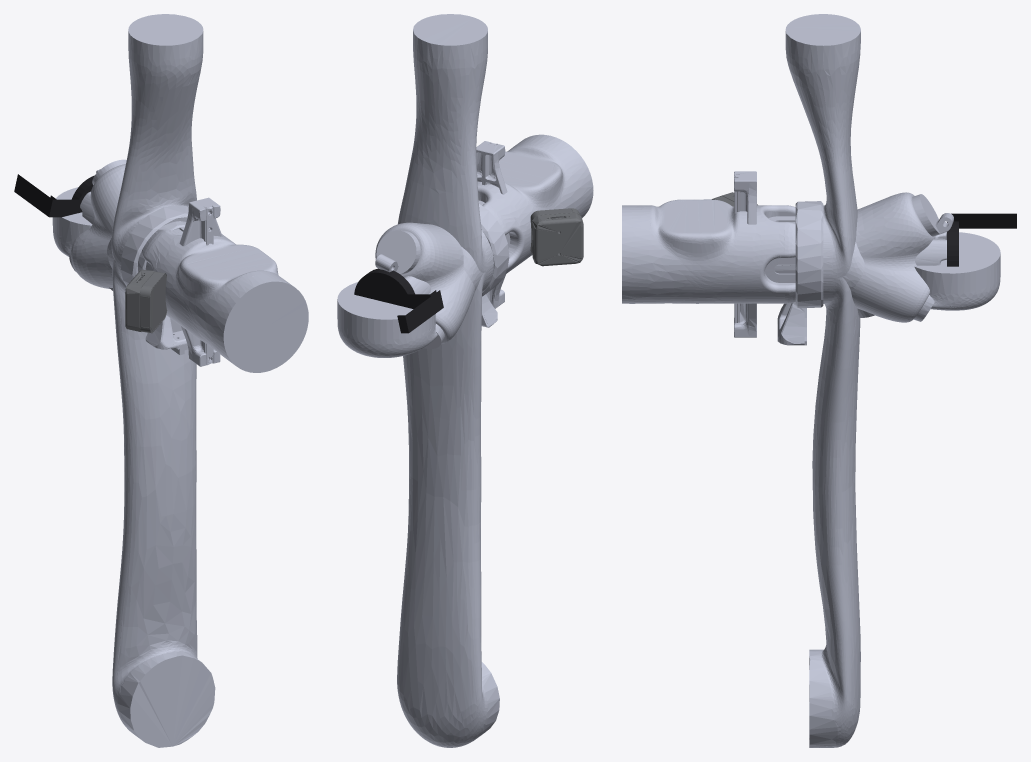
The model's file is arm.glb.
3 views of the same model, side by side, from view 1: azimuth 30°, elevation 25°; view 2: azimuth 150°, elevation 25°; view 3: azimuth 270°, elevation 25° (orthographic).
Visible parts, largest first — view 1: b4, b2, b5, b8, b10, b3, b11; view 2: b4, b5, b8, b2, b3, b10; view 3: b4, b2, b5, b8, b3, b10, b11.
Part boxes in pixels (x1,y1,x2,y2): b4: [112, 218, 215, 747]; b2: [141, 228, 308, 372]; b5: [111, 14, 203, 279]; b8: [14, 159, 126, 288]; b10: [125, 197, 222, 366]; b3: [52, 187, 188, 286]; b11: [145, 315, 188, 354]; b4: [397, 232, 499, 747]; b5: [398, 14, 493, 287]; b8: [354, 222, 474, 348]; b2: [477, 134, 593, 274]; b3: [337, 204, 509, 357]; b10: [476, 141, 583, 308]; b4: [809, 220, 860, 747]; b2: [622, 199, 795, 303]; b5: [785, 14, 860, 303]; b8: [851, 192, 1016, 322]; b3: [795, 201, 1000, 310]; b10: [712, 171, 795, 337]; b11: [777, 302, 806, 345].
Size of the model in its own units: 0.13 by 0.6585 by 0.3303.
